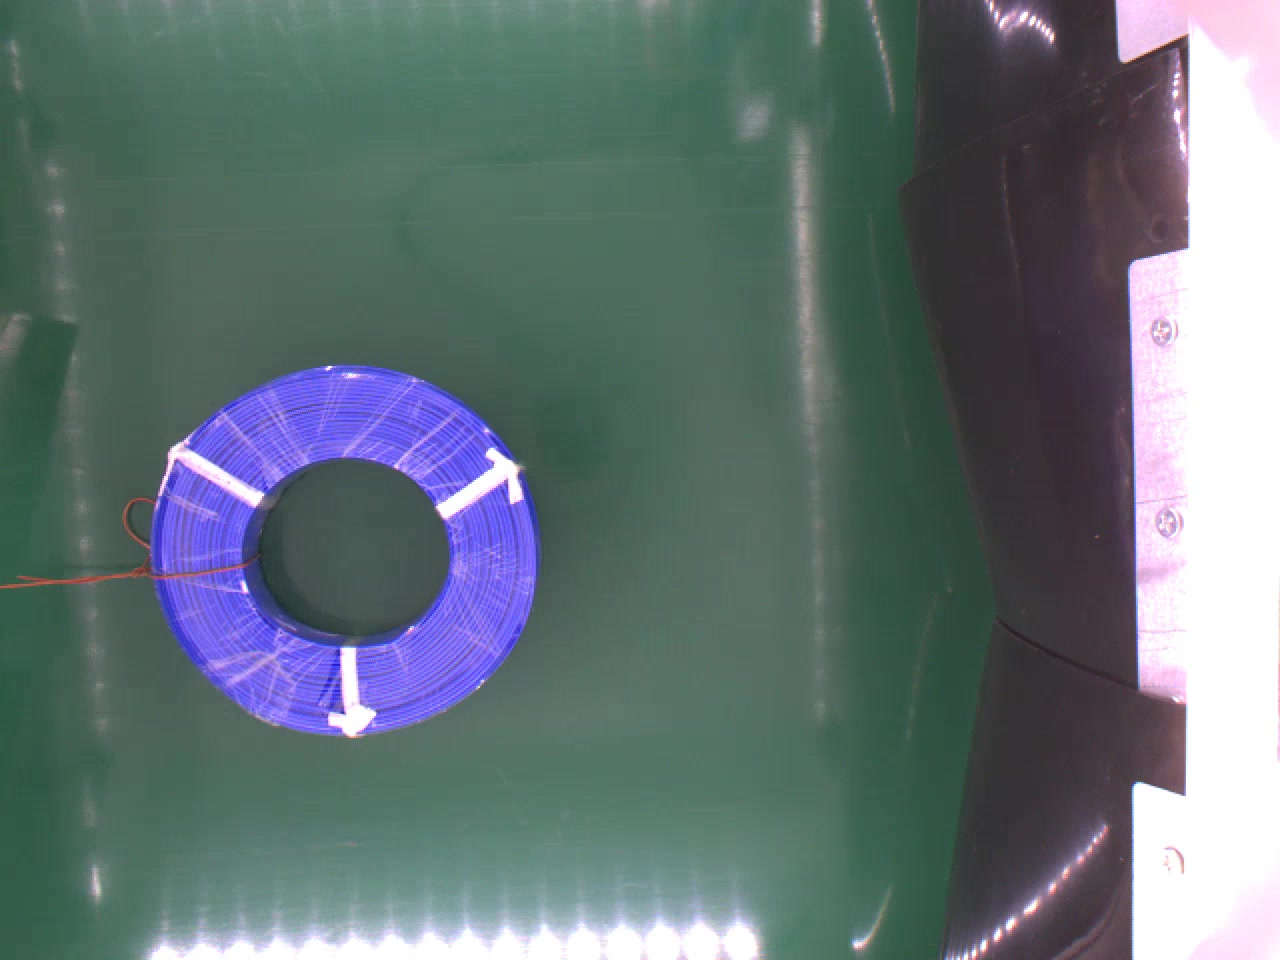blue: (144, 354, 539, 734)
